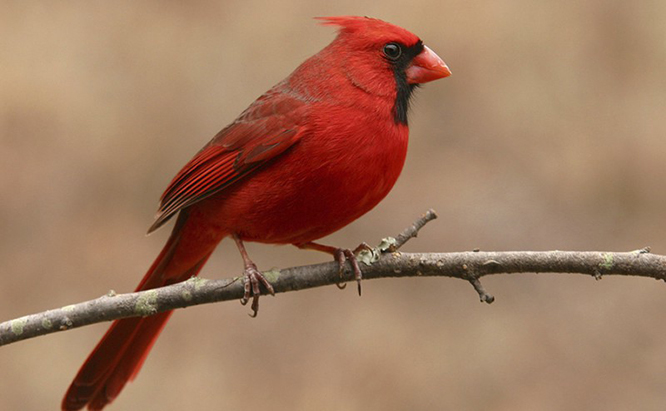bird: (140, 20, 425, 264)
